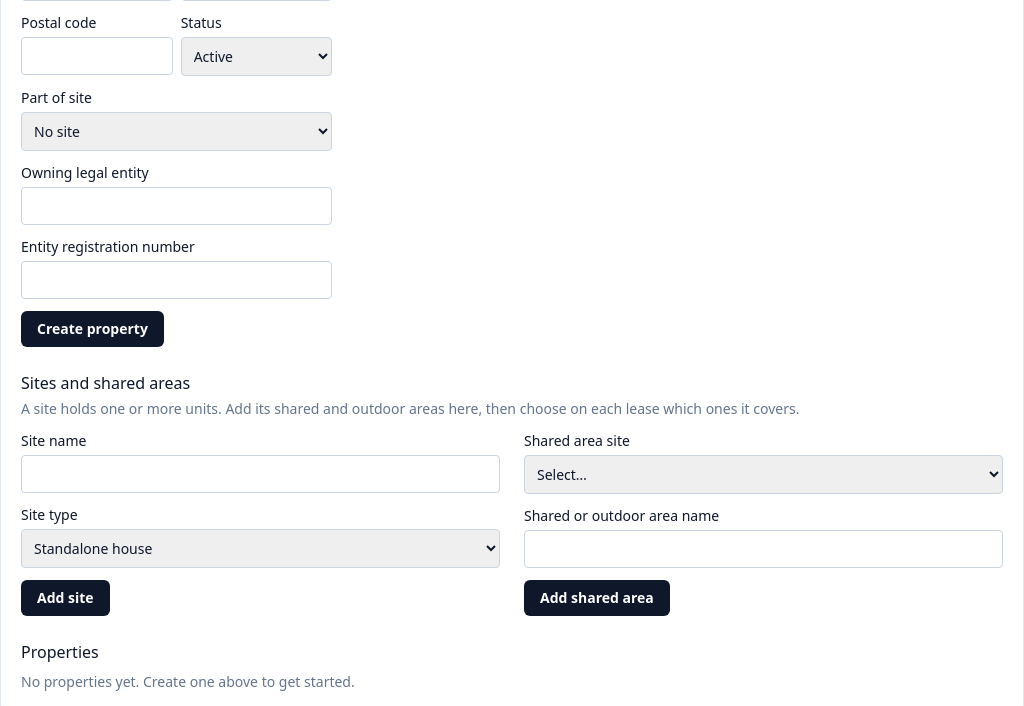
Test case: SetupPanel › adds a site and saves the areas a lease covers
This screenshot has width=1024, height=706.
(page scrolled)
Step 1. Type "Oak Court" into the field labelled "Site name" → (260, 474), box [21,455,500,493]
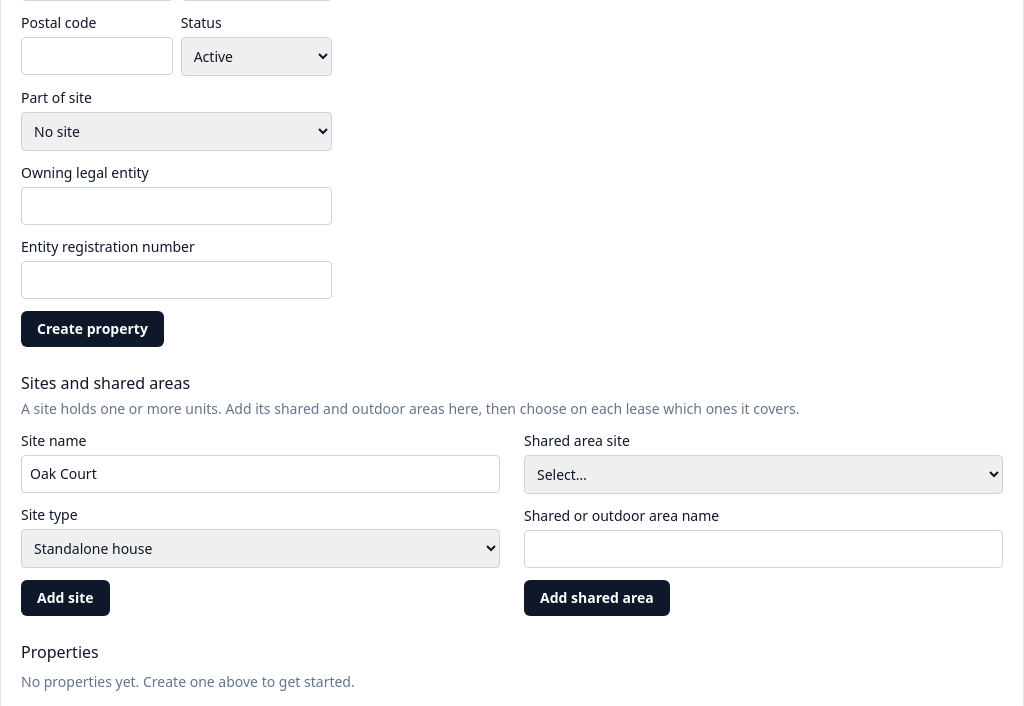
Step 2. Click the button "Add site" → (65, 598), box [21,580,110,616]
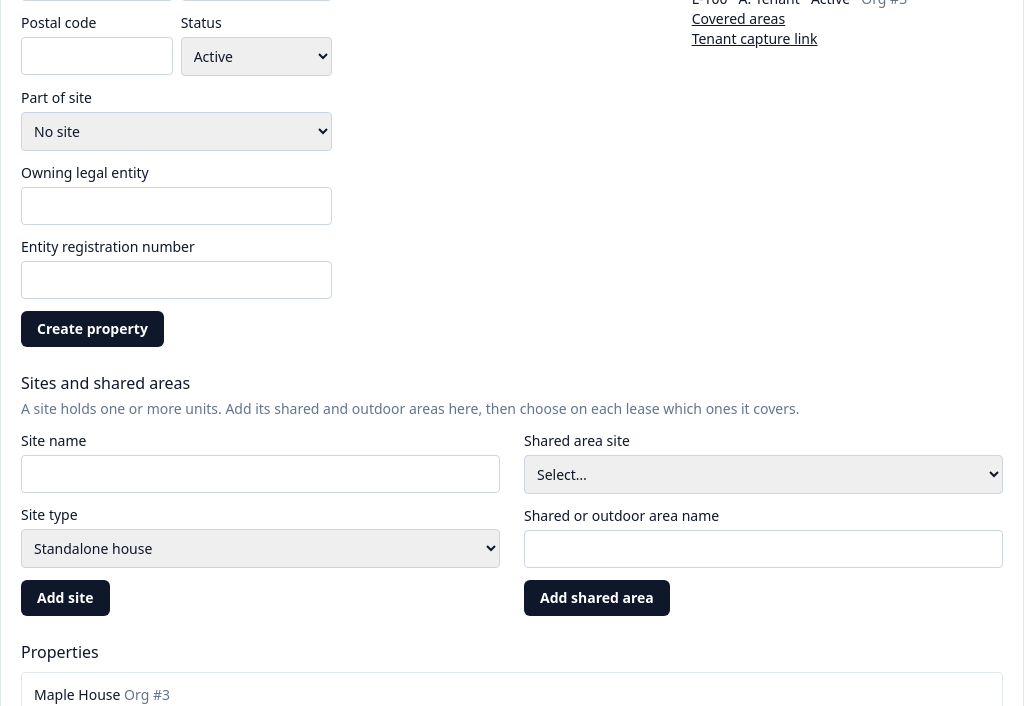
Step 3. Click the button with aria-label "Covered areas for L-100" → (738, 19), box [692,9,785,29]
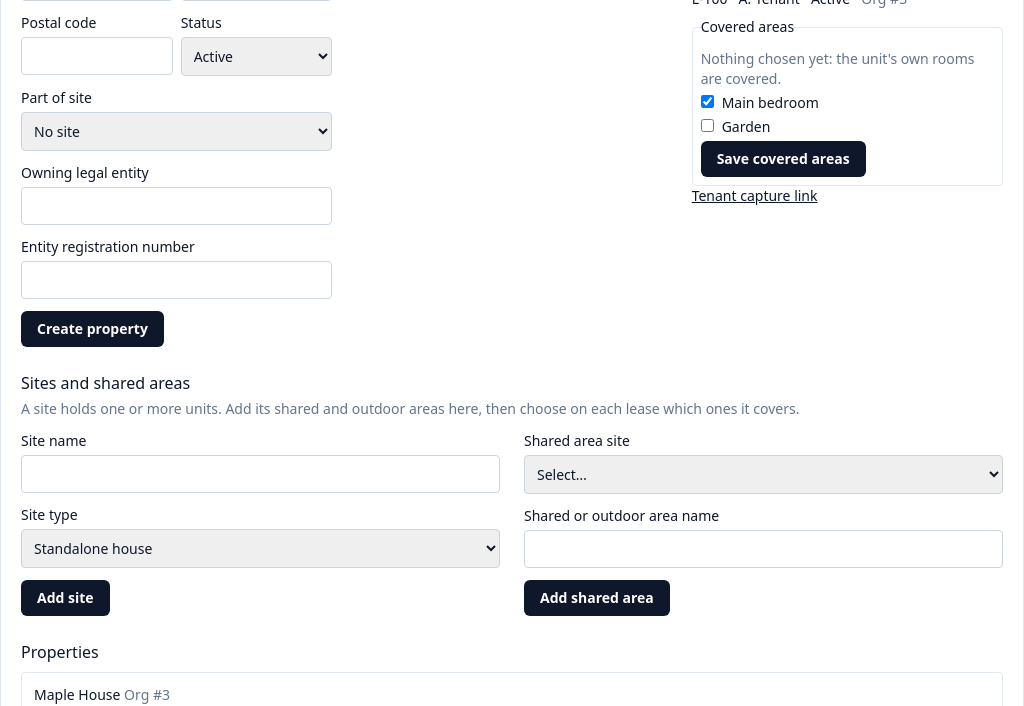
Step 4. Click the checkbox labelled "Garden" → (707, 126), box [701,119,714,132]
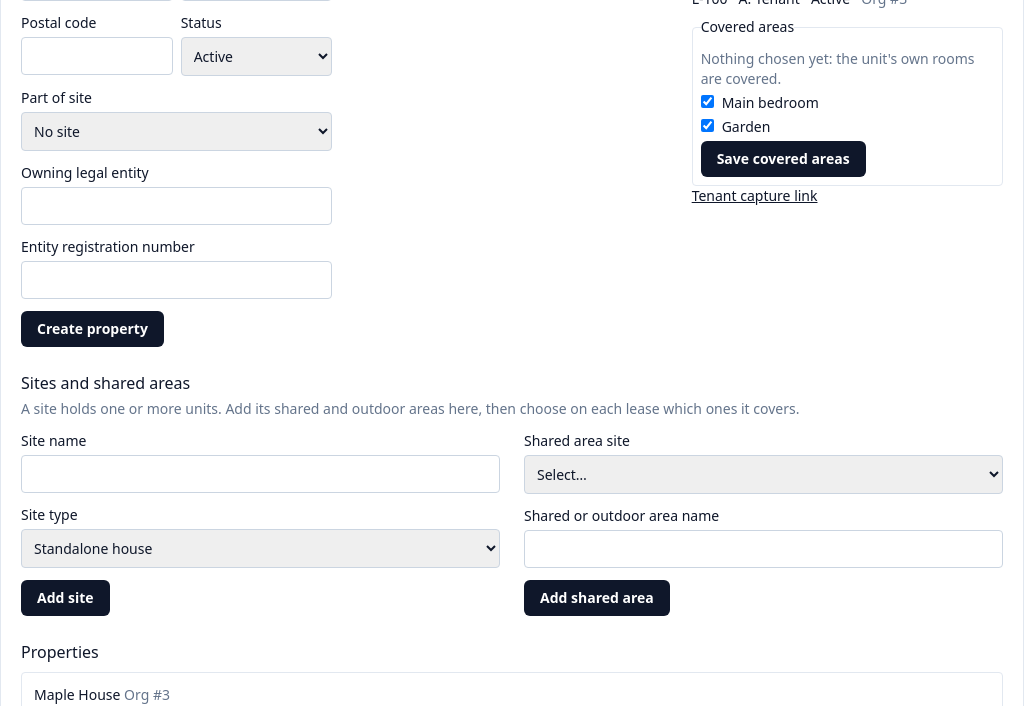
Step 5. Click the button "Save covered areas" → (783, 159), box [701,141,866,177]
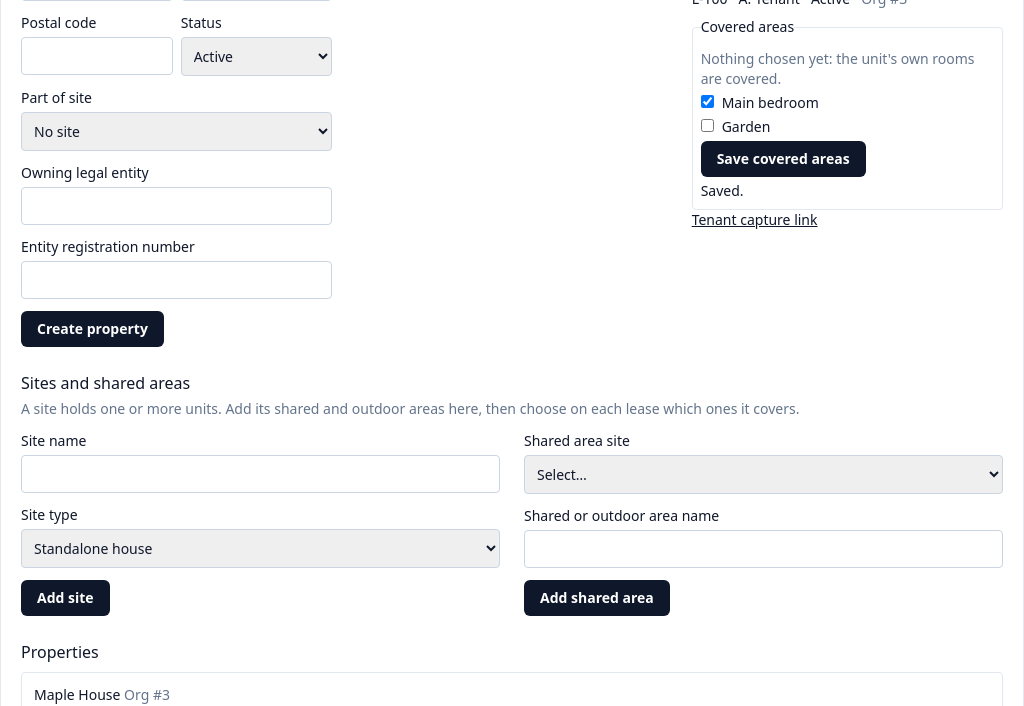
Expected: the text "Saved." is shown, [701,181,744,200]
